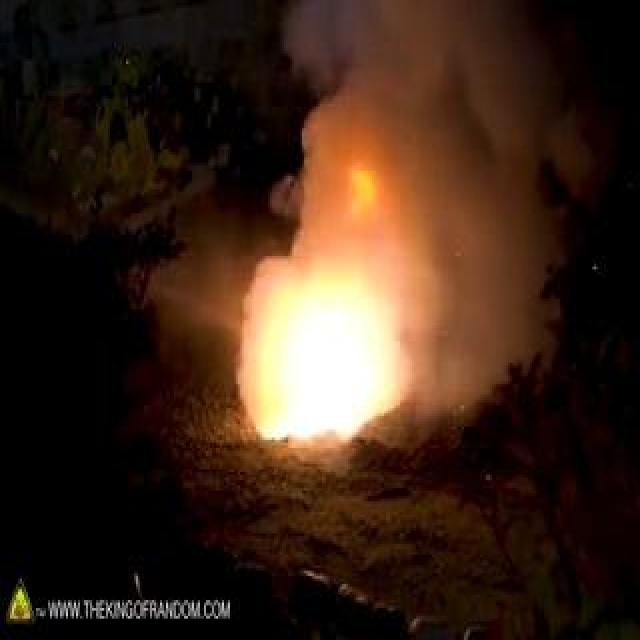Fire: (188, 206, 320, 348)
